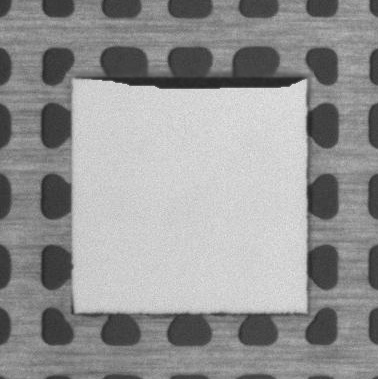DIE_BROKEN: (86, 71, 298, 93)
